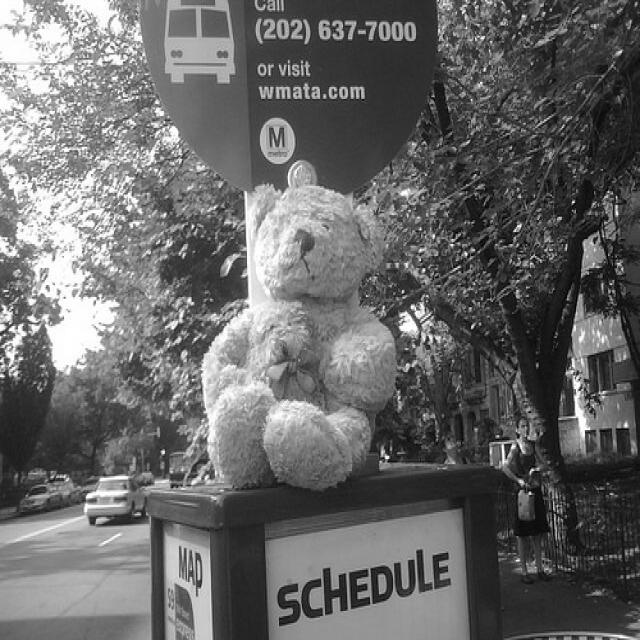monkey: (498, 416, 552, 587), (437, 426, 472, 464)
